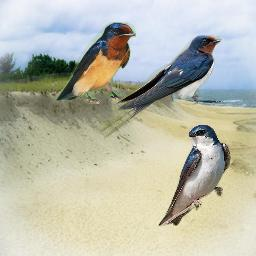Swallow: (99, 35, 222, 138), (158, 123, 231, 227), (54, 22, 136, 104)
